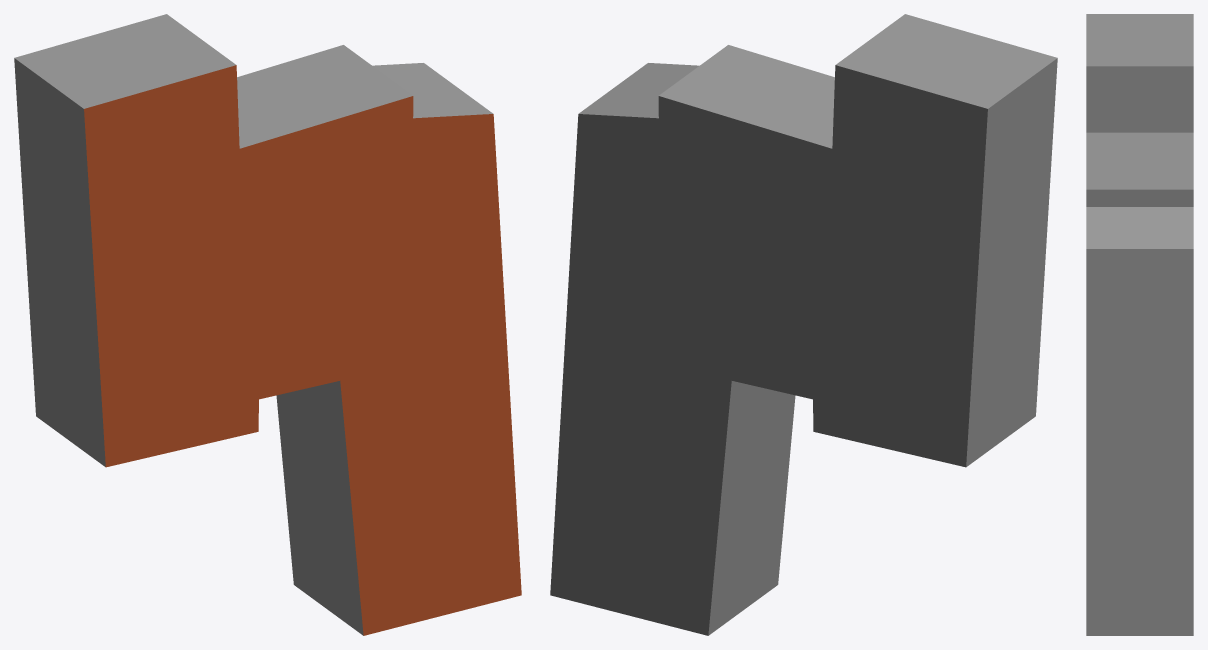
File: construction_3349_assumed_A_Casa_h6m.obj
3 views of the same model, side by side, from view 1: azimuth 30°, elevation 25°; view 2: azimuth 150°, elevation 25°; view 3: azimuth 270°, elevation 25° (orthographic). The views are drawn at different scales.
Parts seen in each view (by area): view 1: construction_3349_assumed_A_Casa; view 2: construction_3349_assumed_A_Casa; view 3: construction_3349_assumed_A_Casa.
Boxes of the visible parts, box(x1,y1,x2,y2) form: construction_3349_assumed_A_Casa: box(14, 14, 521, 635); construction_3349_assumed_A_Casa: box(550, 14, 1057, 635); construction_3349_assumed_A_Casa: box(1086, 14, 1193, 635).
Size of the model in its own units: 21.73 by 28.55 by 6.
